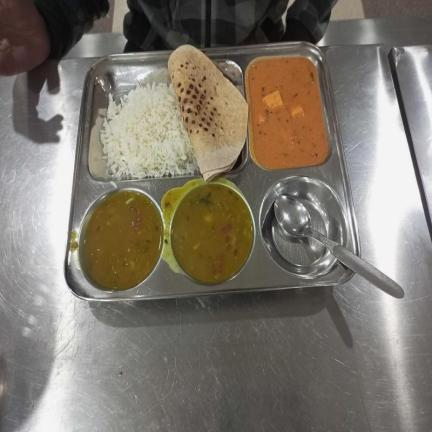Dal: (82, 192, 163, 292), (172, 184, 252, 283)
Paneer: (248, 58, 328, 168)
Plate: (64, 40, 362, 300)
Rice: (98, 79, 201, 179)
Roti: (167, 44, 250, 184)
